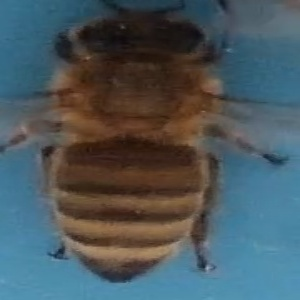bee: (17, 3, 295, 286)
